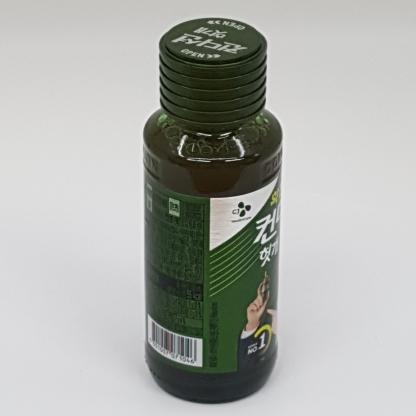CJ-----100ML: (143, 18, 282, 403)
